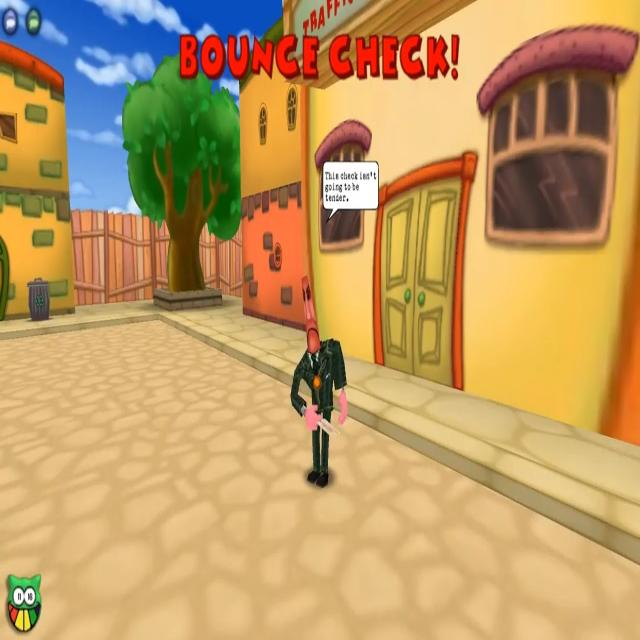pennypincher: (290, 276, 348, 489)
